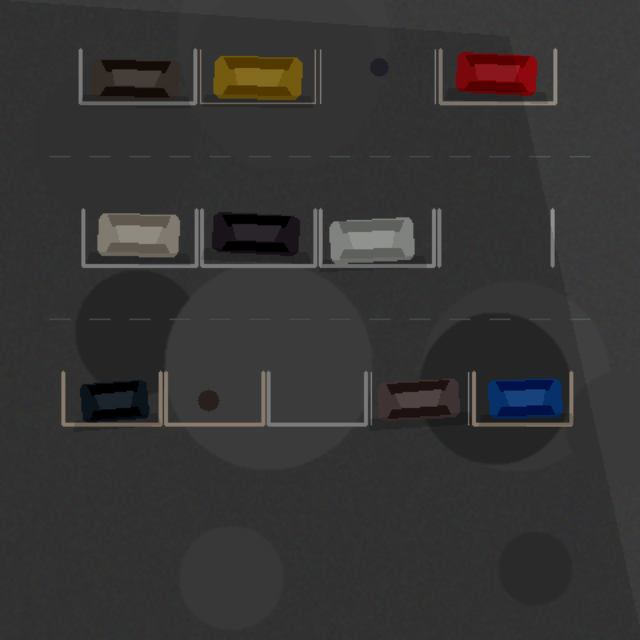space-empty: (439, 209, 552, 265), (320, 49, 435, 103), (165, 372, 263, 424), (268, 372, 365, 424)
space-occupied: (201, 209, 315, 265), (83, 209, 196, 265), (320, 209, 433, 265), (80, 49, 195, 103), (200, 49, 315, 103), (440, 49, 555, 103), (473, 372, 571, 424), (63, 372, 160, 424), (371, 372, 468, 424)
